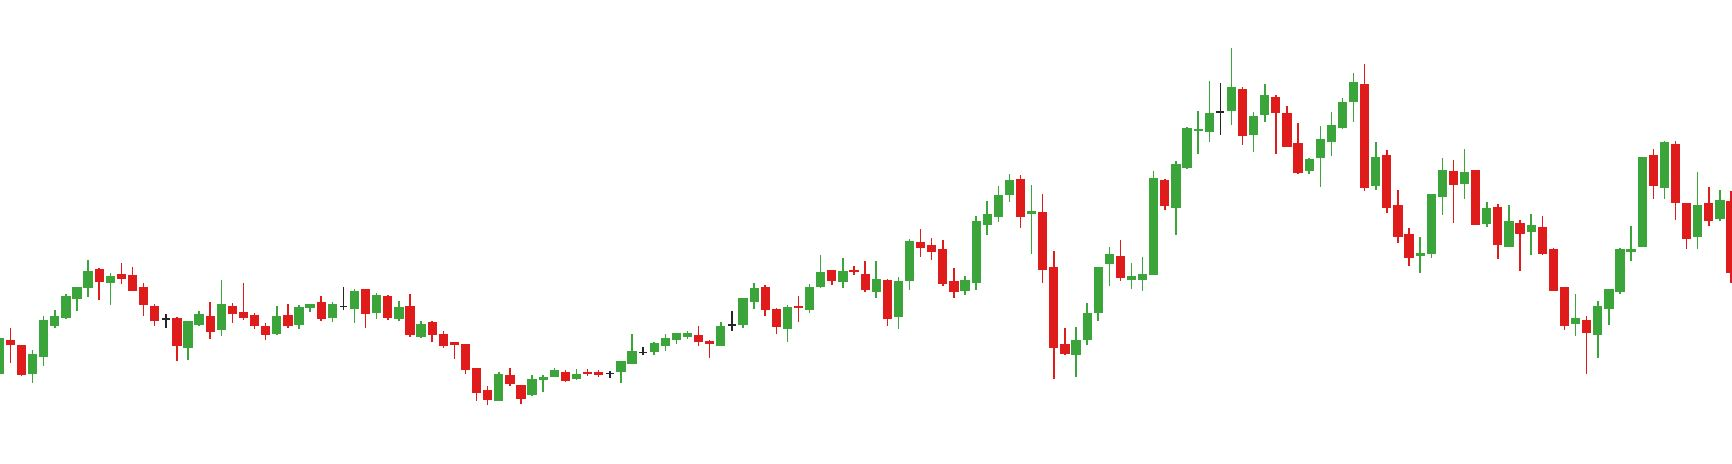buy: (879, 251, 1094, 381)
sell: (1259, 63, 1370, 143)
